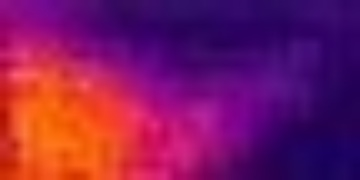Shadow: (147, 1, 360, 180), (1, 1, 148, 94)
